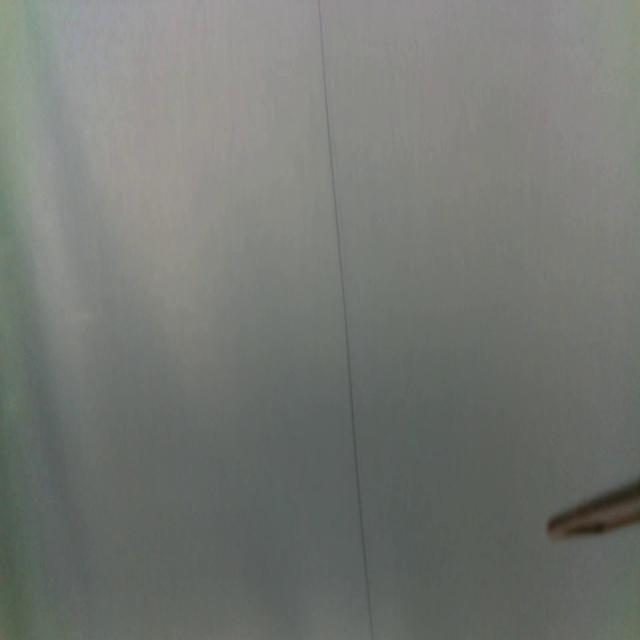crease: (318, 1, 375, 640)
